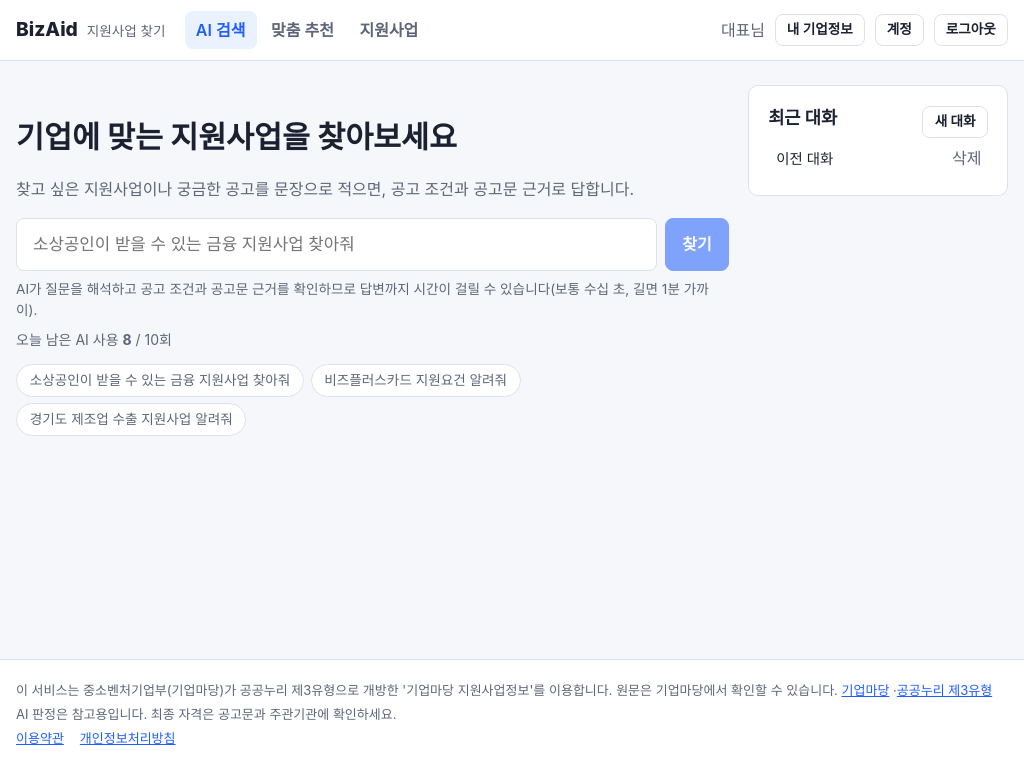
Scenario: AI 검색은 시간이 걸릴 수 있다고 안내하고, 이전 대화는 최근 질문 묶음이 맨 위에 온다
The image size is (1024, 758).
Expected: the text "답변까지 시간이 걸릴 수 있습니다" is shown, top-left (16, 281), bottom-right (709, 318)
Click the button "이전 대화": (855, 159) top-left (768, 140), bottom-right (942, 177)
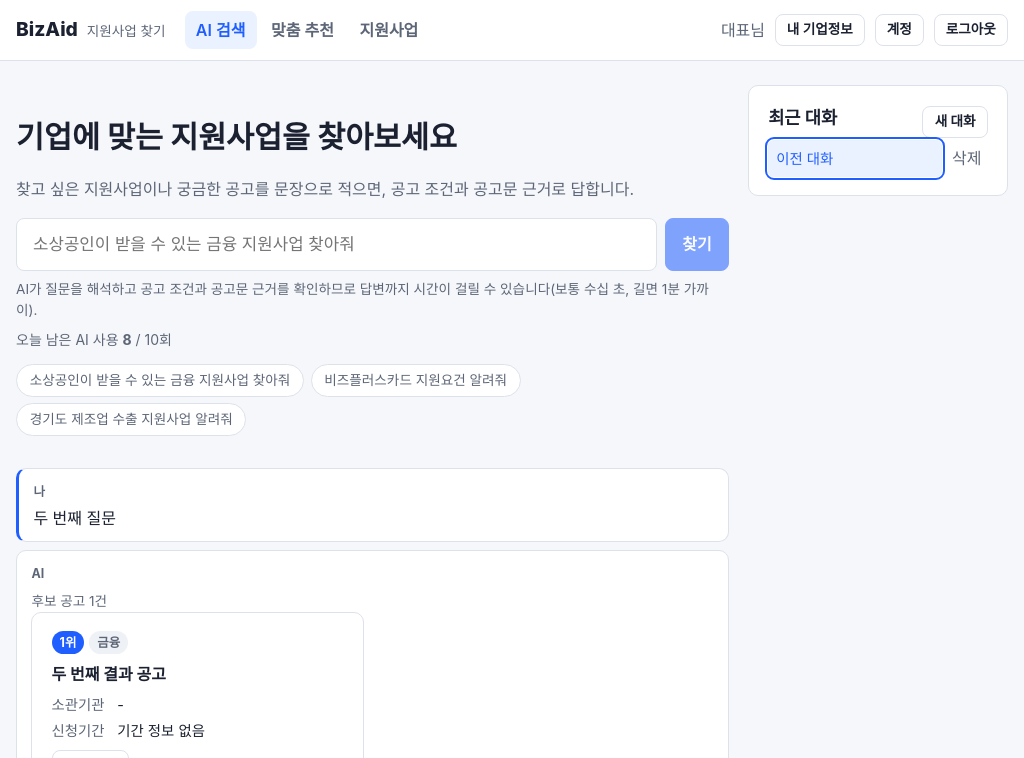
Result: the link "두 번째 결과 공고" is shown at top-left (52, 664), bottom-right (166, 684)
